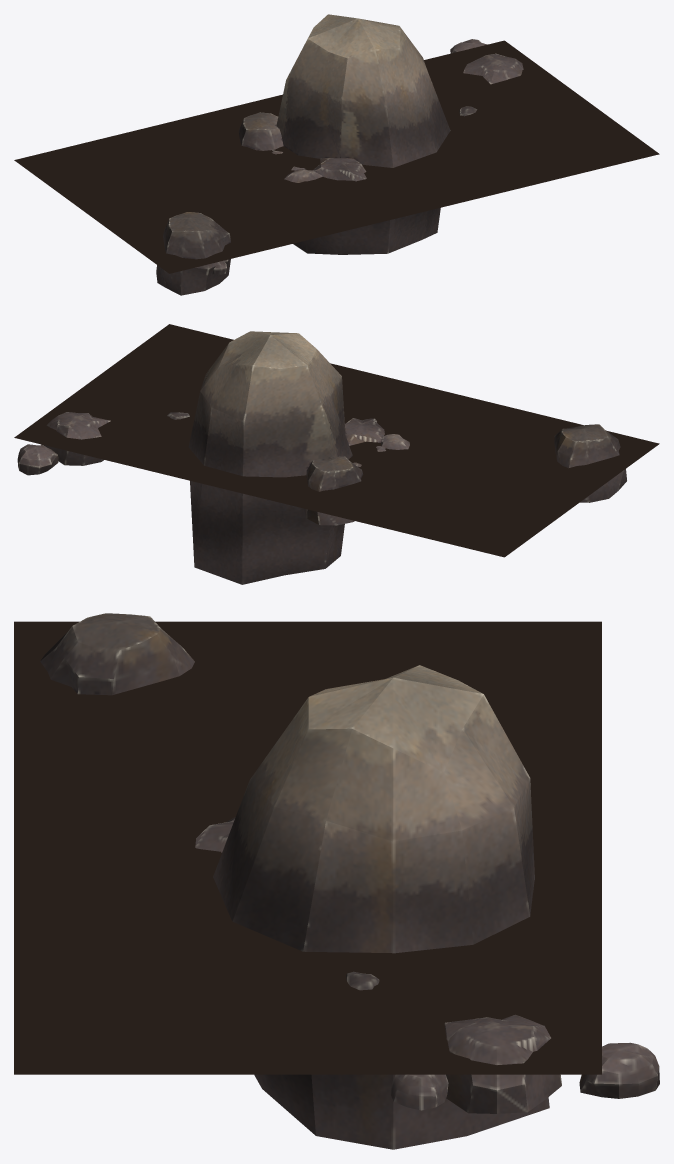
The picture shows the model from 3 angles, top to bottom: view 1: azimuth 30°, elevation 25°; view 2: azimuth 150°, elevation 25°; view 3: azimuth 270°, elevation 25°; orthographic projection. The views are drawn at different scales.
Parts seen in each view (by area): view 1: GroundShade, Stones; view 2: GroundShade, Stones; view 3: GroundShade, Stones.
Part boxes in pixels (x1,y1,x2,y2): GroundShade: (14, 40, 659, 273); Stones: (156, 14, 523, 295); GroundShade: (14, 324, 659, 557); Stones: (17, 331, 626, 584); GroundShade: (14, 621, 601, 1074); Stones: (40, 613, 659, 1149).
Bounding box in the file's own units: 45.7 × 19.34 × 27.3.
2 materials, 2 textured.
